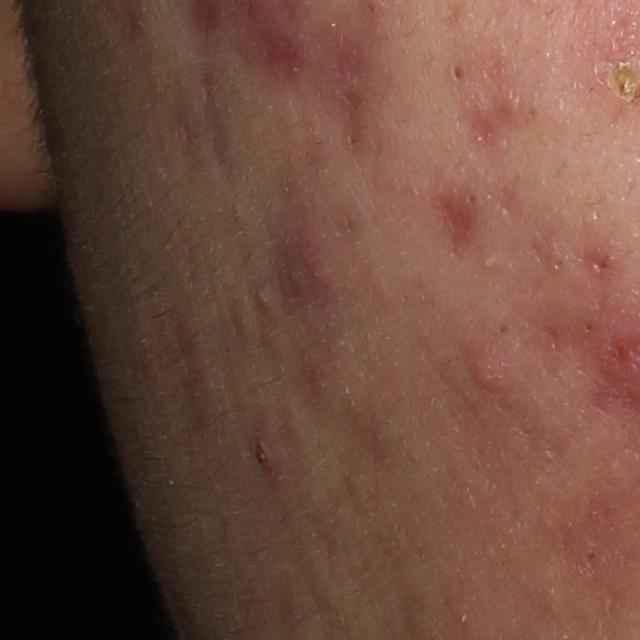atrophic_scar: (194, 61, 238, 165)
comedo: (254, 285, 271, 312), (548, 255, 566, 275), (448, 62, 465, 83), (583, 549, 598, 565)
papule: (462, 346, 514, 394)
